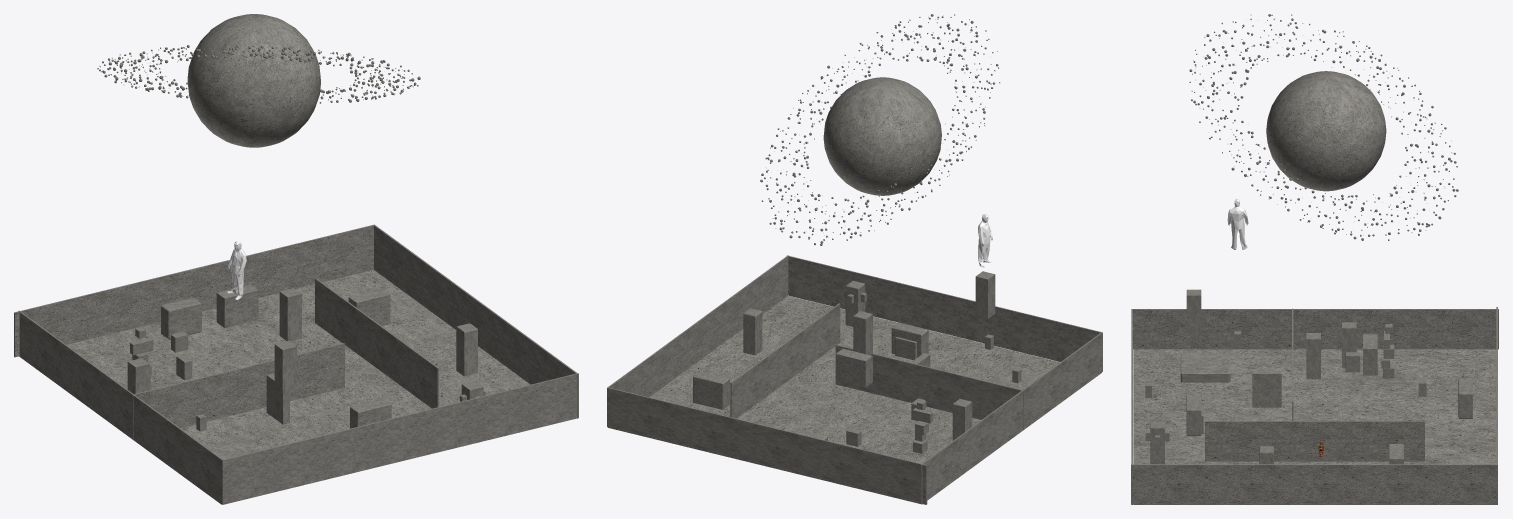
Rendered from warring_3.glb.
3 views of the same model, side by side, from view 1: azimuth 30°, elevation 25°; view 2: azimuth 150°, elevation 25°; view 3: azimuth 270°, elevation 25° (orthographic). The views are drawn at different scales.
Parts seen in each view (by area): view 1: pavimento.002, palazzo_1.002, Sphere, palazzo_2.005, palazzo_2.010, palazzo_2.006, palazzo_2.009, palazzo_2.004, palazzo_2.007, palazzo_2.011, palazzo_1.004, palazzo_1 (+7 smaller); view 2: pavimento.002, palazzo_2.005, Sphere, palazzo_1.002, palazzo_2.010, palazzo_2.006, palazzo_2.009, palazzo_2.004, palazzo_2.007, palazzo_2, palazzo_1, palazzo_1.003 (+7 smaller); view 3: pavimento.002, palazzo_2.006, palazzo_2.010, Sphere, palazzo_2.004, palazzo_1.013, palazzo_2.008, palazzo_1, palazzo_1.004, 223_person__0.001, palazzo_2.003, palazzo_2.007 (+4 smaller).
Part boxes in pixels (bbox=[...]): pavimento.002: bbox=[19, 270, 530, 504]; palazzo_1.002: bbox=[222, 373, 578, 504]; Sphere: bbox=[187, 14, 320, 147]; palazzo_2.005: bbox=[14, 224, 374, 357]; palazzo_2.010: bbox=[18, 310, 222, 504]; palazzo_2.006: bbox=[374, 225, 578, 418]; palazzo_2.009: bbox=[132, 343, 344, 439]; palazzo_2.004: bbox=[315, 278, 438, 408]; palazzo_2.007: bbox=[216, 284, 258, 327]; palazzo_2.011: bbox=[161, 297, 201, 339]; palazzo_1.004: bbox=[279, 288, 301, 341]; palazzo_1: bbox=[274, 340, 296, 394]; pavimento.002: bbox=[608, 296, 1101, 504]; palazzo_2.005: bbox=[607, 387, 927, 504]; Sphere: bbox=[823, 77, 941, 195]; palazzo_1.002: bbox=[787, 255, 1102, 371]; palazzo_2.010: bbox=[920, 332, 1102, 504]; palazzo_2.006: bbox=[608, 255, 788, 397]; palazzo_2.009: bbox=[835, 344, 1024, 430]; palazzo_2.004: bbox=[730, 303, 840, 418]; palazzo_2.007: bbox=[835, 348, 872, 387]; palazzo_2: bbox=[693, 371, 729, 409]; palazzo_1: bbox=[975, 271, 995, 318]; palazzo_1.003: bbox=[743, 308, 762, 355]; pavimento.002: bbox=[1133, 349, 1497, 504]; palazzo_2.006: bbox=[1131, 464, 1497, 504]; palazzo_2.010: bbox=[1133, 309, 1498, 349]; Sphere: bbox=[1266, 71, 1386, 191]; palazzo_2.004: bbox=[1205, 421, 1424, 461]; palazzo_1.013: bbox=[1180, 353, 1230, 382]; palazzo_2.008: bbox=[1252, 371, 1281, 407]; palazzo_1: bbox=[1186, 289, 1201, 335]; palazzo_1.004: bbox=[1306, 333, 1320, 379]; 223_person__0.001: bbox=[1227, 198, 1248, 249]; palazzo_2.003: bbox=[1186, 395, 1201, 435]; palazzo_2.007: bbox=[1363, 334, 1377, 375].
Size of the model in its own units: 511 by 545 by 502.
4 materials, 3 textured.
